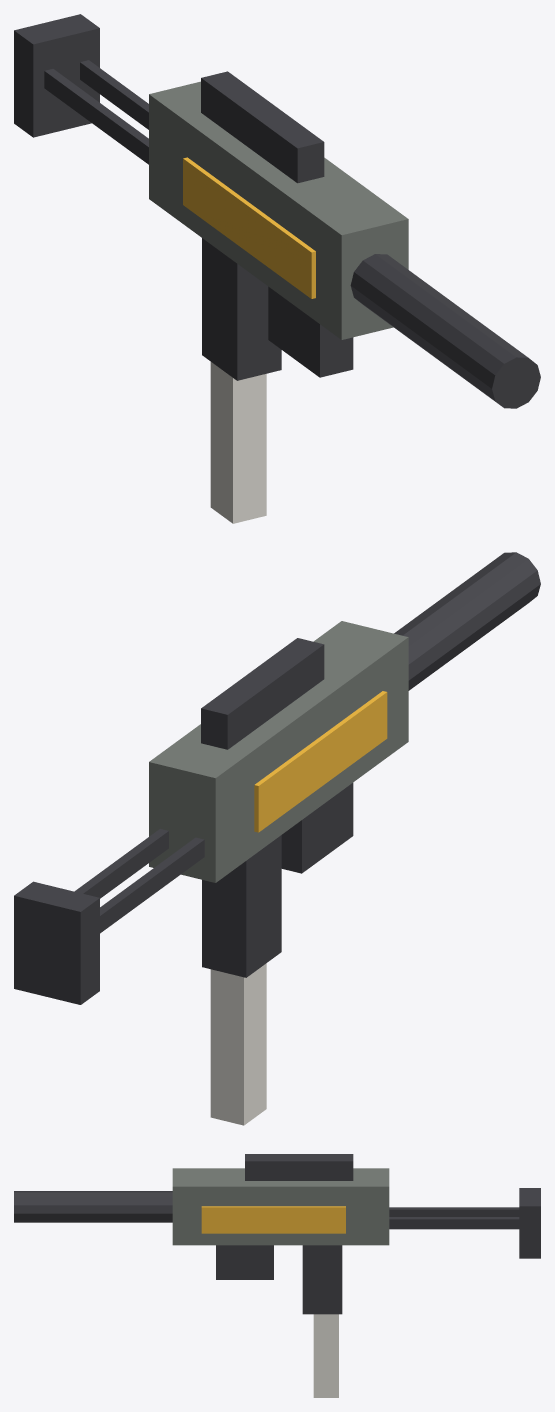
The model's file is weapon_F1_SMG.glb.
3 views of the same model, one above another, from view 1: azimuth 30°, elevation 25°; view 2: azimuth 150°, elevation 25°; view 3: azimuth 270°, elevation 25° (orthographic). The views are drawn at different scales.
Visible parts, largest first — view 1: Body, Mag; view 2: Body, Mag; view 3: Body, Mag.
Boxes of the visible parts, box(x1,y1,x2,y2) form: Body: box(14, 14, 540, 408); Mag: box(210, 362, 266, 523); Body: box(14, 552, 540, 1004); Mag: box(210, 963, 266, 1125); Body: box(14, 1154, 540, 1314); Mag: box(313, 1314, 338, 1397).
Bounding box in the file's own units: 0.068 × 0.36 × 0.73.
